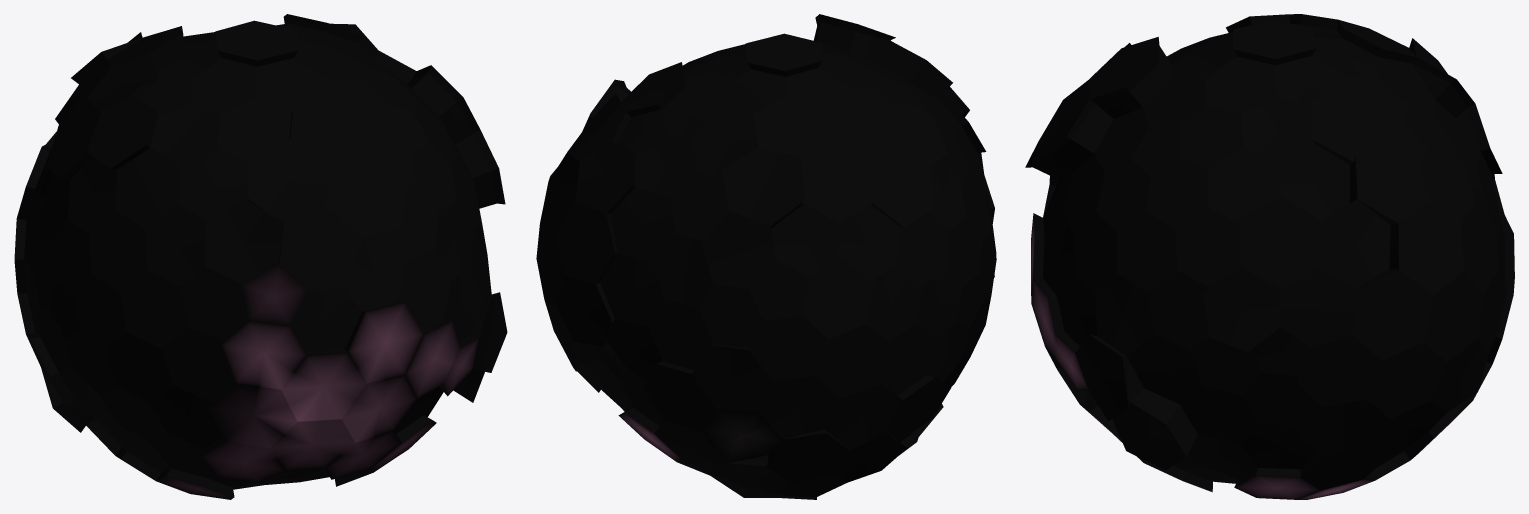
The model's file is planet.gltf.
3 views of the same model, side by side, from view 1: azimuth 30°, elevation 25°; view 2: azimuth 150°, elevation 25°; view 3: azimuth 270°, elevation 25° (orthographic). The views are drawn at different scales.
Parts seen in each view (by area): view 1: planetbackup.004; view 2: planetbackup.004; view 3: planetbackup.004.
Part boxes in pixels (left/top/right/bottom): planetbackup.004: left=14, top=14, right=507, bottom=499; planetbackup.004: left=536, top=14, right=996, bottom=499; planetbackup.004: left=1025, top=14, right=1514, bottom=499.
Size of the model in its own units: 6.25 by 6.22 by 6.32.
